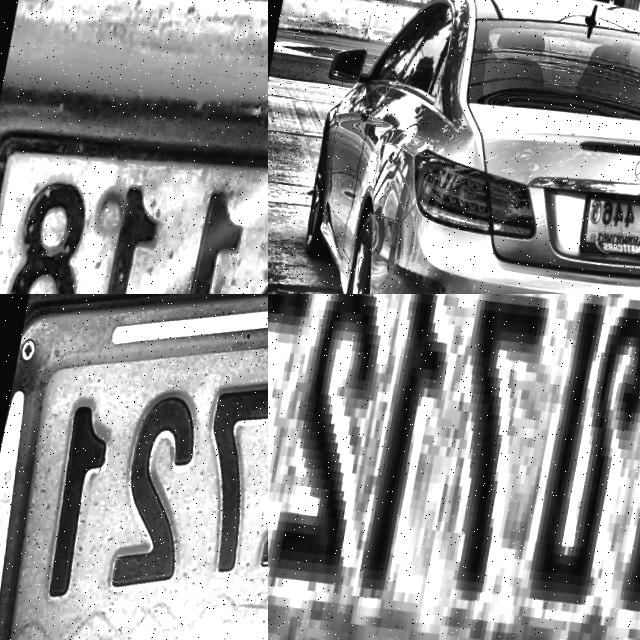license-plate: (268, 294, 640, 640), (0, 294, 268, 640), (0, 13, 268, 294), (577, 188, 640, 270)
